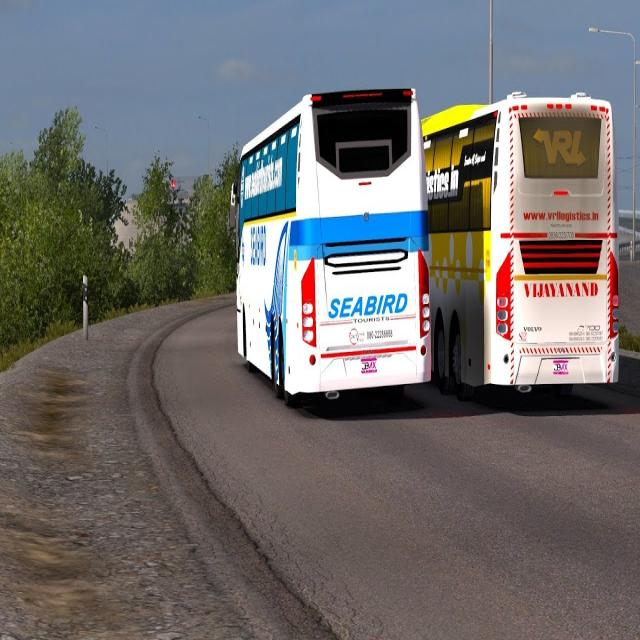bus: (231, 89, 430, 402), (422, 91, 619, 398)
